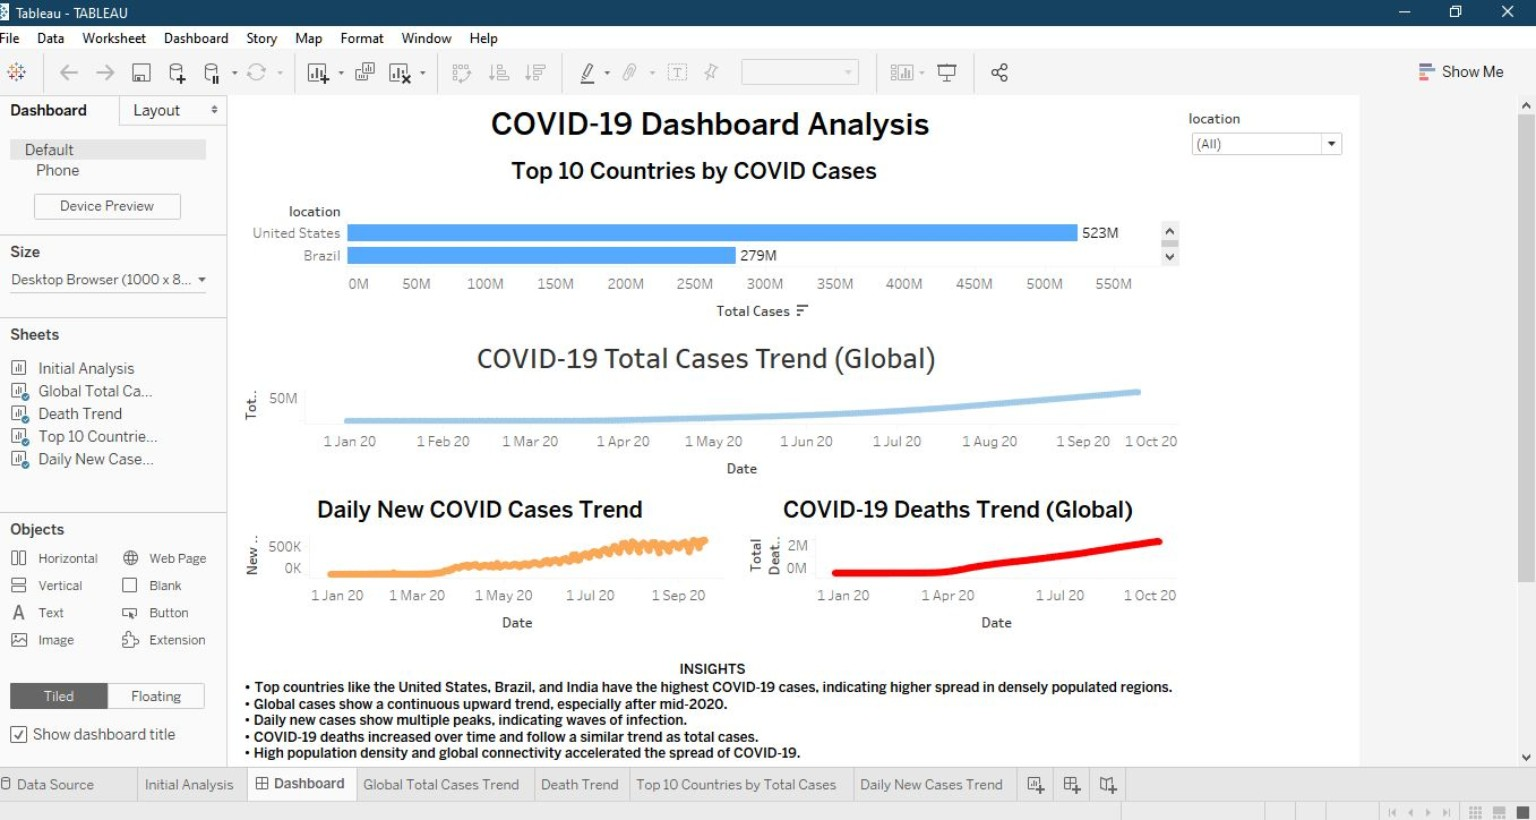

The dashboard page shown, as its layout file describes it:
{"tool":"tableau","page":{"name":"Dashboard ","canvas":[1000,800],"ordinal":0},"visuals":[{"type":"title","box":[8,8,837,36]},{"type":"filter","title":"Global Total Cases Trend","param":"[federated.1uitcmy16534p91fy4d2c0xato9b].[none:location:nk]","box":[845,8,147,55]},{"type":"worksheet","title":"Top 10 Countries by Total Cases","mark":"Automatic","rows":["location"],"cols":["total_cases"],"box":[5,50,836,156]},{"type":"worksheet","title":"Global Total Cases Trend","mark":"Automatic","rows":["total_cases"],"cols":["date"],"box":[5,211,836,134]},{"type":"worksheet","title":"Daily New Cases Trend","mark":"Automatic","rows":["new_cases"],"cols":["date"],"box":[6,350,434,131]},{"type":"worksheet","title":"Death Trend","mark":"Automatic","rows":["total_deaths"],"cols":["date"],"box":[451,350,389,131]},{"type":"text","box":[12,490,833,108]}]}

Visuals, with their boxes on the page's 1000x800 design canvas (x1, y1, x2, y2). These are canvas units, not pixel positions in the 1536x820 screenshot, which may show the page scaled, cropped or inside an application window:
title: box=[8, 8, 845, 44]
"Global Total Cases Trend" filter: box=[845, 8, 992, 63]
"Top 10 Countries by Total Cases" worksheet: box=[5, 50, 841, 206]
"Global Total Cases Trend" worksheet: box=[5, 211, 841, 345]
"Daily New Cases Trend" worksheet: box=[6, 350, 440, 481]
"Death Trend" worksheet: box=[451, 350, 840, 481]
text: box=[12, 490, 845, 598]
